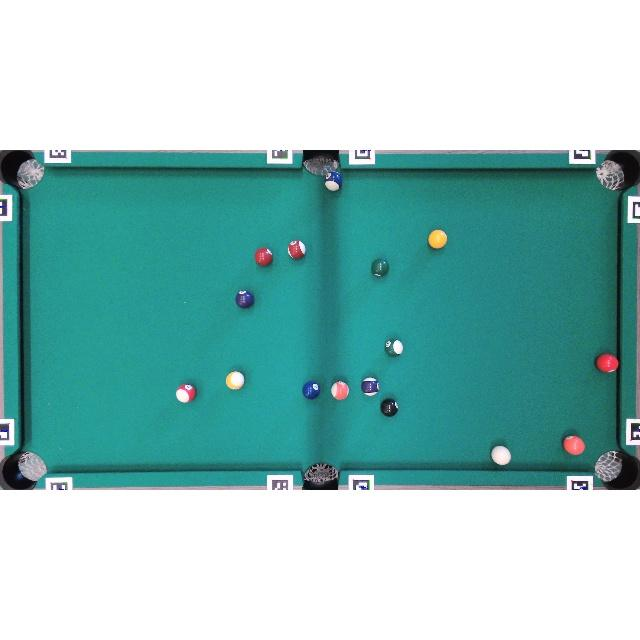cue ball: (491, 446, 511, 465)
other: (562, 434, 586, 456), (596, 353, 618, 373), (176, 384, 196, 403), (254, 247, 273, 266), (380, 398, 399, 417), (428, 230, 448, 248), (226, 371, 244, 390), (235, 290, 254, 308), (302, 381, 320, 400), (331, 381, 349, 400), (325, 171, 342, 191), (288, 240, 306, 258), (371, 258, 389, 276), (362, 378, 379, 397), (385, 339, 403, 356)
